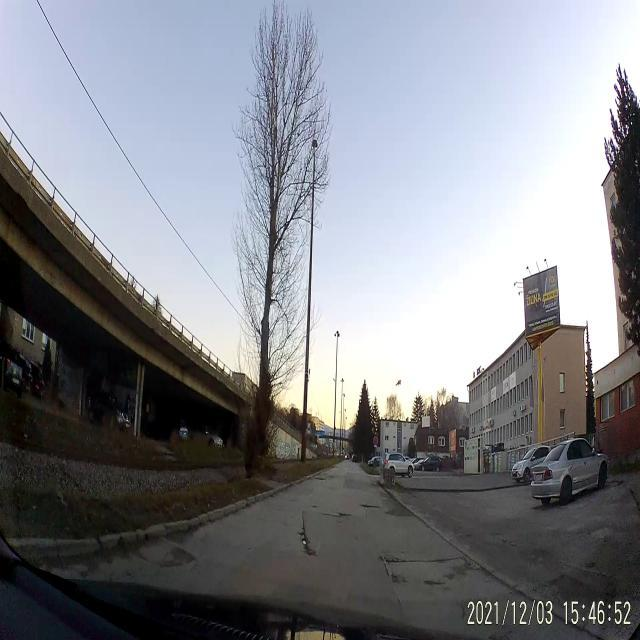Pothole: (161, 542, 197, 574), (378, 552, 411, 582), (298, 527, 320, 563), (322, 506, 353, 524), (422, 574, 447, 592), (358, 498, 384, 514)
